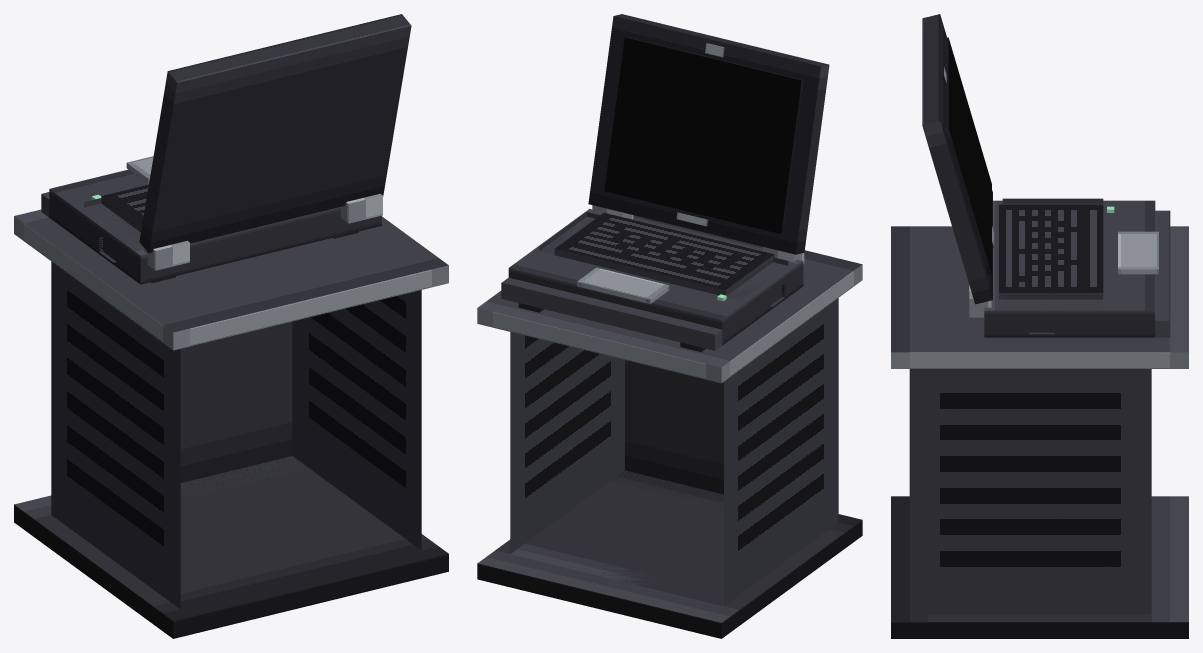
The model's file is terminal.obj.
The picture shows the model from 3 angles, left to right: view 1: azimuth 30°, elevation 25°; view 2: azimuth 150°, elevation 25°; view 3: azimuth 270°, elevation 25°; orthographic projection. The views are drawn at different scales.
Parts seen in each view (by area): view 1: cube, lid_shell, base_shell, keyboard_deck, hinge_right, hinge_left; view 2: cube, screen_panel, lid_shell, keyboard_deck, base_shell, front_step, trackpad, speaker_right, speaker_left; view 3: cube, base_shell, keyboard_deck, lid_shell, screen_panel, front_step, trackpad, speaker_left, speaker_right.
Boxes of the visible parts, bbox=[...] form: cube: bbox=[14, 209, 448, 638]; lid_shell: bbox=[139, 14, 411, 253]; base_shell: bbox=[49, 169, 381, 284]; keyboard_deck: bbox=[101, 184, 148, 231]; hinge_right: bbox=[143, 240, 189, 270]; hinge_left: bbox=[340, 193, 382, 223]; cube: bbox=[477, 215, 862, 638]; screen_panel: bbox=[604, 37, 803, 234]; lid_shell: bbox=[588, 14, 829, 254]; keyboard_deck: bbox=[554, 213, 774, 295]; base_shell: bbox=[508, 208, 803, 345]; front_step: bbox=[501, 277, 722, 350]; trackpad: bbox=[577, 267, 669, 304]; speaker_right: bbox=[725, 257, 788, 300]; speaker_left: bbox=[539, 212, 599, 254]; cube: bbox=[891, 226, 1188, 638]; base_shell: bbox=[984, 200, 1155, 337]; keyboard_deck: bbox=[999, 204, 1103, 299]; lid_shell: bbox=[922, 14, 992, 304]; screen_panel: bbox=[945, 37, 991, 275]; front_step: bbox=[1155, 210, 1170, 337]; trackpad: bbox=[1118, 231, 1158, 274]; speaker_left: bbox=[1002, 294, 1103, 307]; speaker_right: bbox=[1002, 198, 1103, 204].
Size of the model in its own units: 1 by 1.88 by 1.
9 materials, 9 textured.
